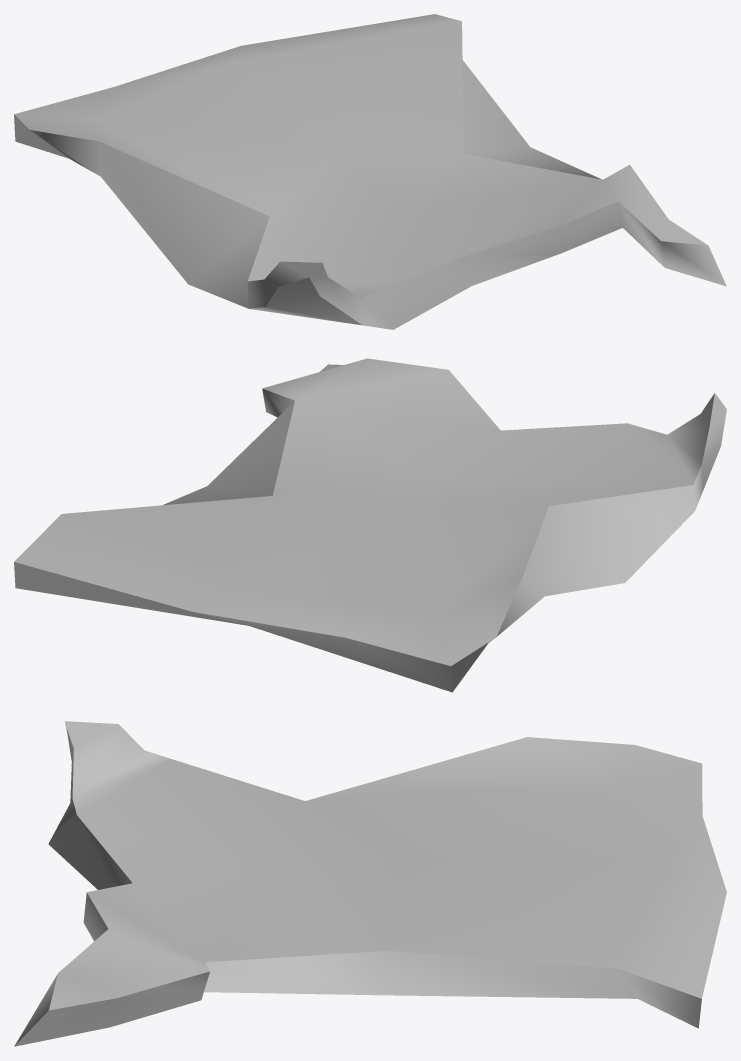
The model's file is Paper.fbx.
3 renders of one model, top to bottom at view 1: azimuth 30°, elevation 25°; view 2: azimuth 150°, elevation 25°; view 3: azimuth 270°, elevation 25°, orthographic. The views are drawn at different scales.
Visible parts, largest first — view 1: Paper; view 2: Paper; view 3: Paper.
Part boxes in pixels (x1,y1,x2,y2): Paper: [14, 14, 726, 329]; Paper: [14, 358, 726, 692]; Paper: [14, 721, 726, 1046].
Bounding box in the file's own units: 0.9892 × 0.2191 × 1.24.
